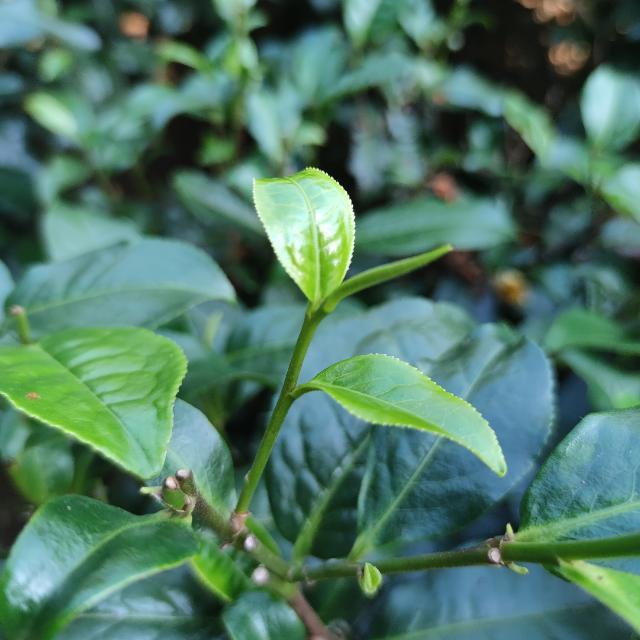Stem: (304, 323, 315, 334)
